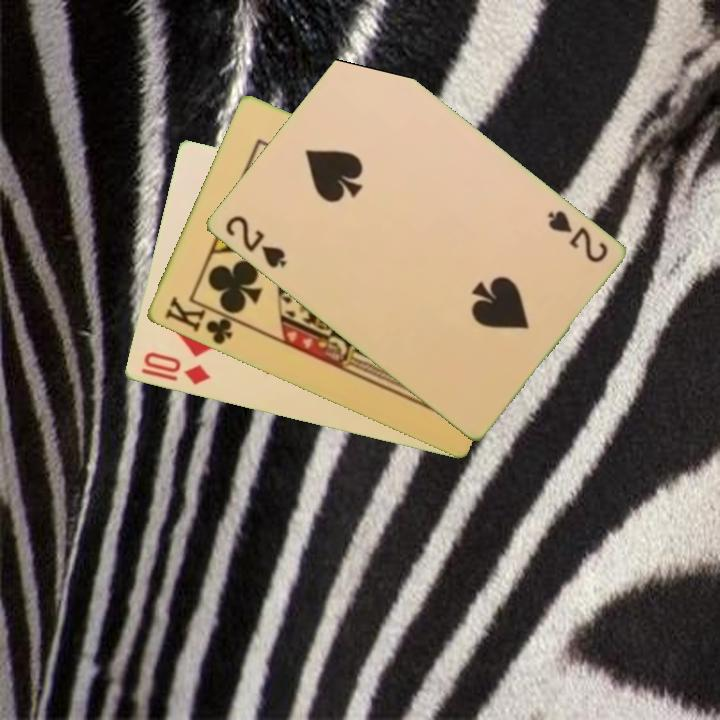10d: (139, 348, 212, 388)
2s: (221, 212, 289, 272), (543, 206, 611, 266)
Kc: (160, 292, 243, 348)
